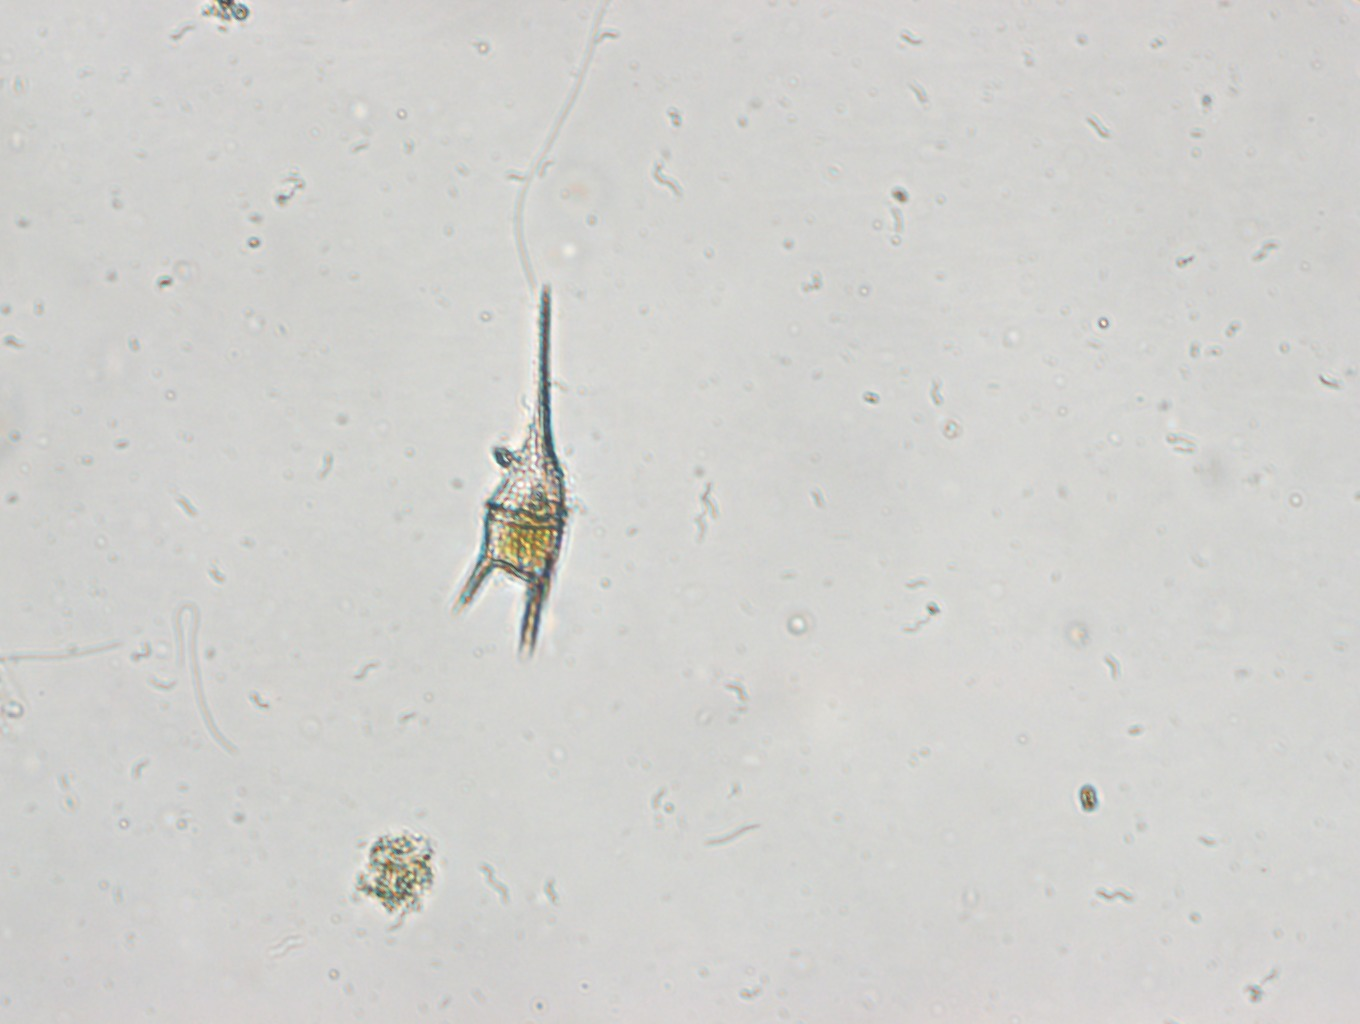ceratium furca: (450, 278, 577, 665)
